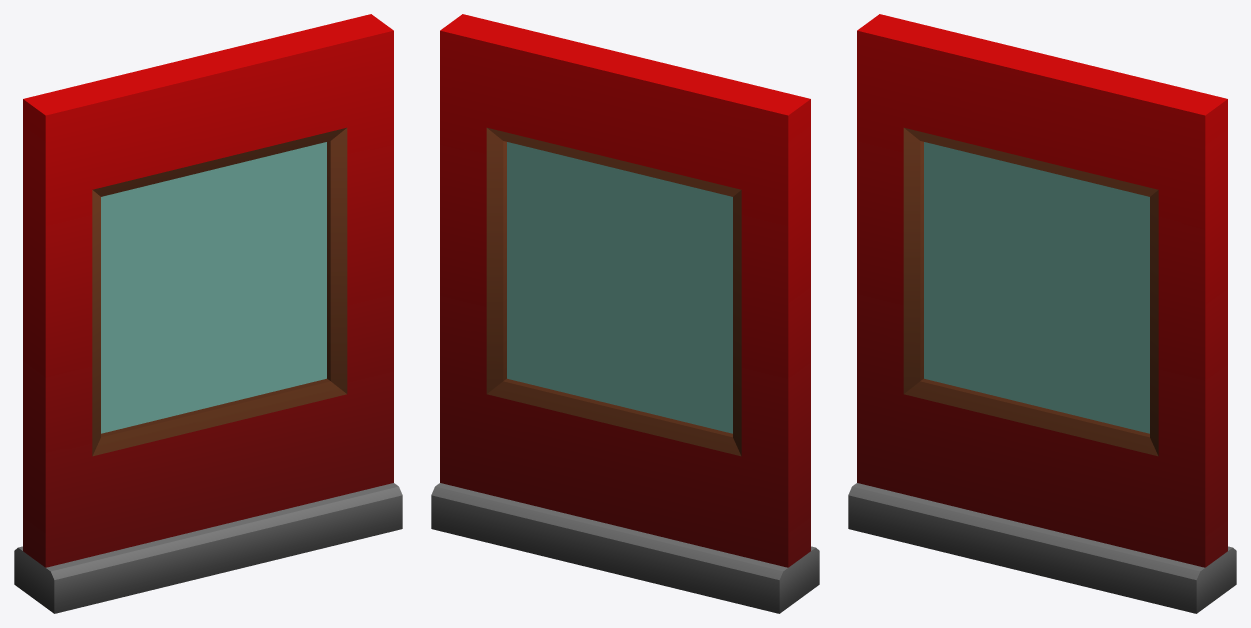
Rendered from Wall_02_C.fbx.
3 views of the same model, side by side, from view 1: azimuth 30°, elevation 25°; view 2: azimuth 150°, elevation 25°; view 3: azimuth 330°, elevation 25° (orthographic).
Parts seen in each view (by area): view 1: Wall_02; view 2: Wall_02; view 3: Wall_02.
Boxes of the visible parts, x1,y1,x2,y2 form: Wall_02: [14, 14, 402, 613]; Wall_02: [431, 14, 819, 613]; Wall_02: [848, 14, 1236, 613].
Size of the model in its own units: 200 by 270 by 40.
